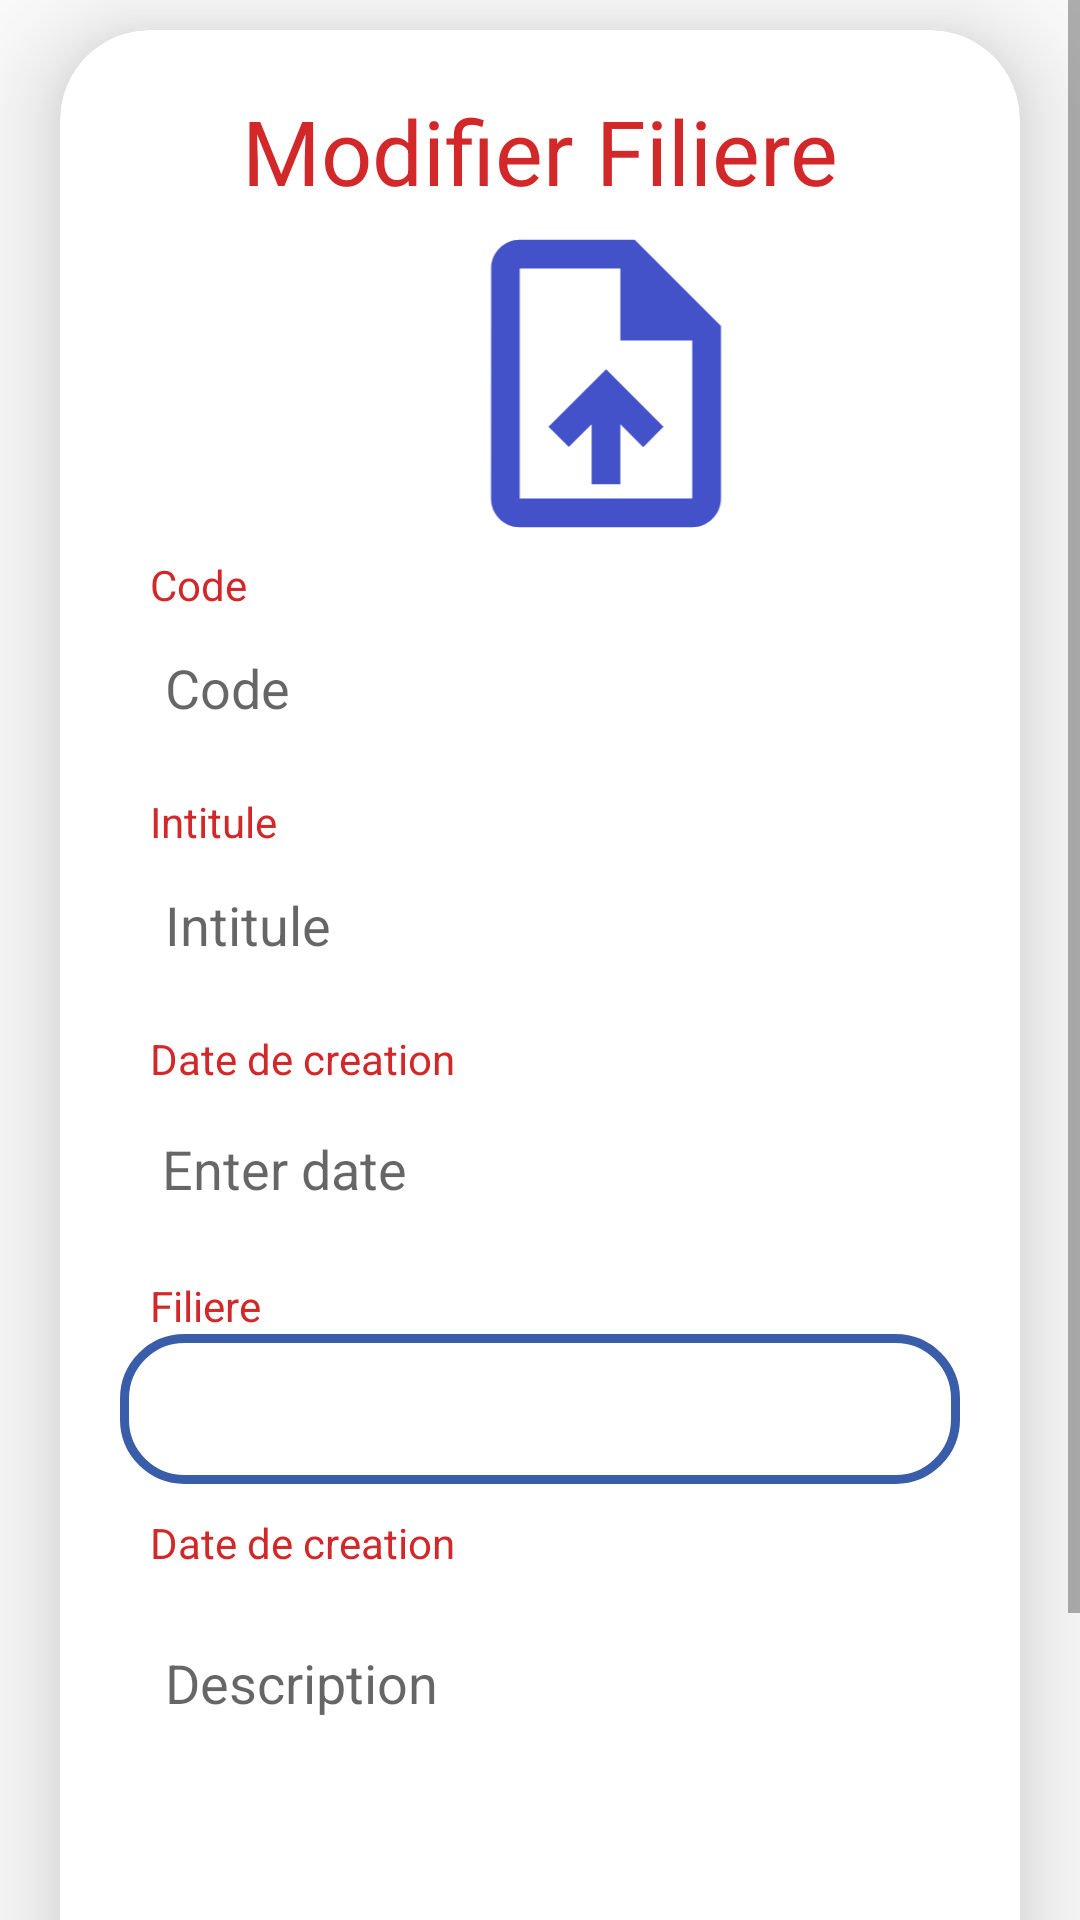

Icons on this 1080 x 1920 Android screen, each with its box as (x1, y1, x2, y2):
upload file: (490, 239, 722, 528)
